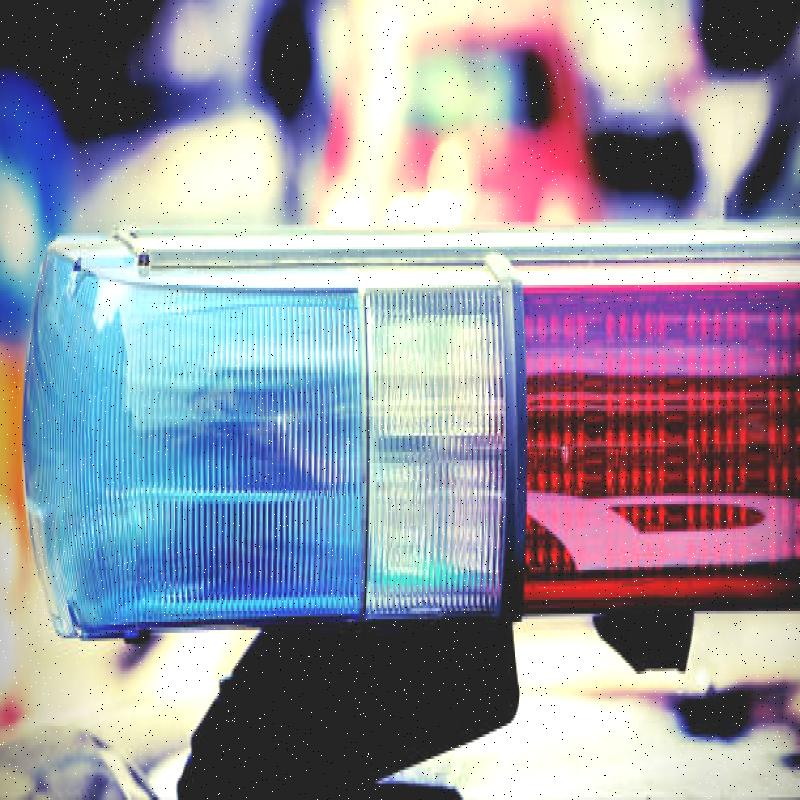AmbulanceSiren: (40, 180, 800, 656)
